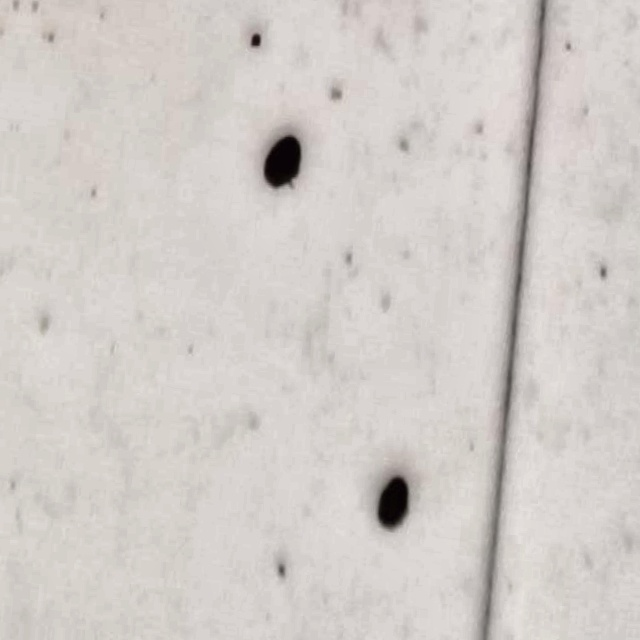varroa: (258, 134, 304, 191), (372, 471, 412, 532)
